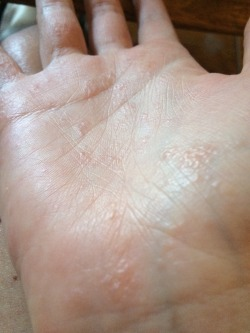Diseased: (2, 34, 225, 288)
